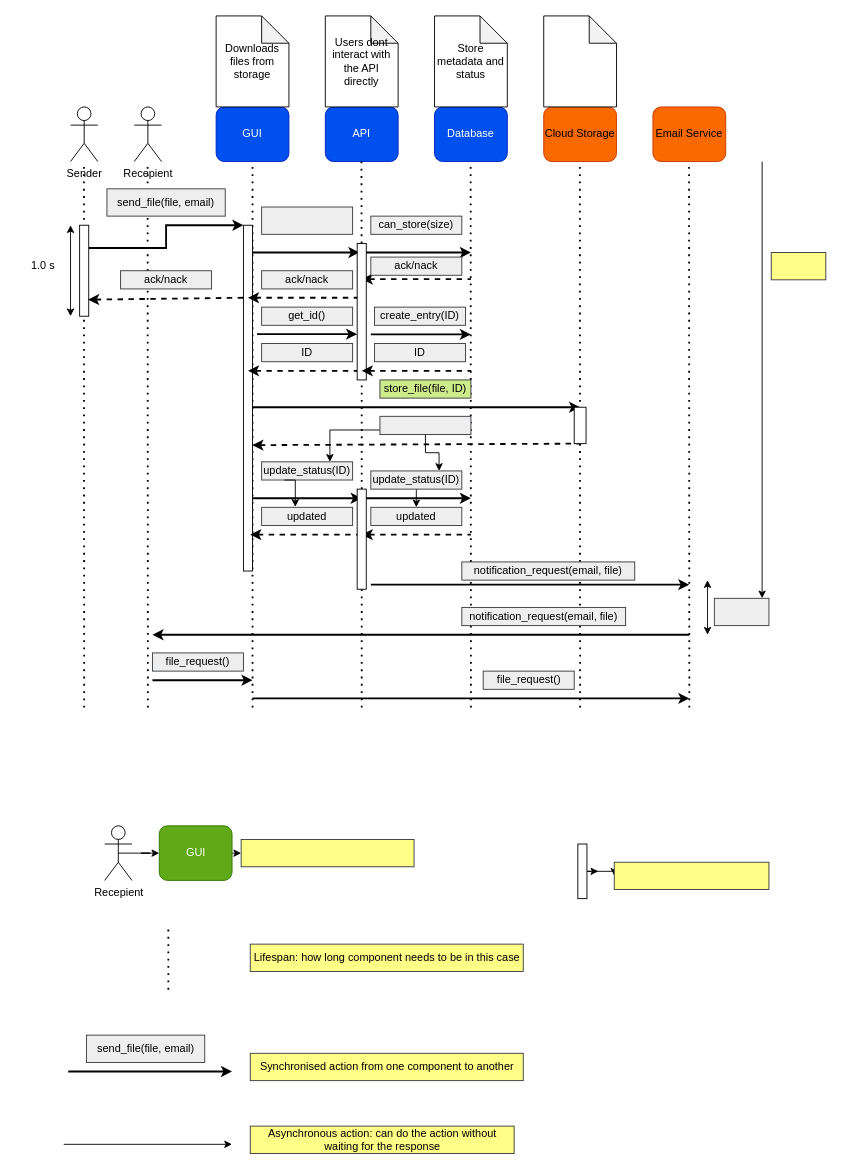
This 842x1169 diagram has some shape labels left out. Each missing label, with the box of its shape:
< 5 min: (713, 597, 769, 626)
ack: (379, 415, 471, 435)
Components: interacting parts: (240, 839, 414, 867)
Focus: awaiting response: (613, 861, 769, 890)
store_request(size): (261, 206, 353, 234)
Time: (770, 252, 826, 280)
